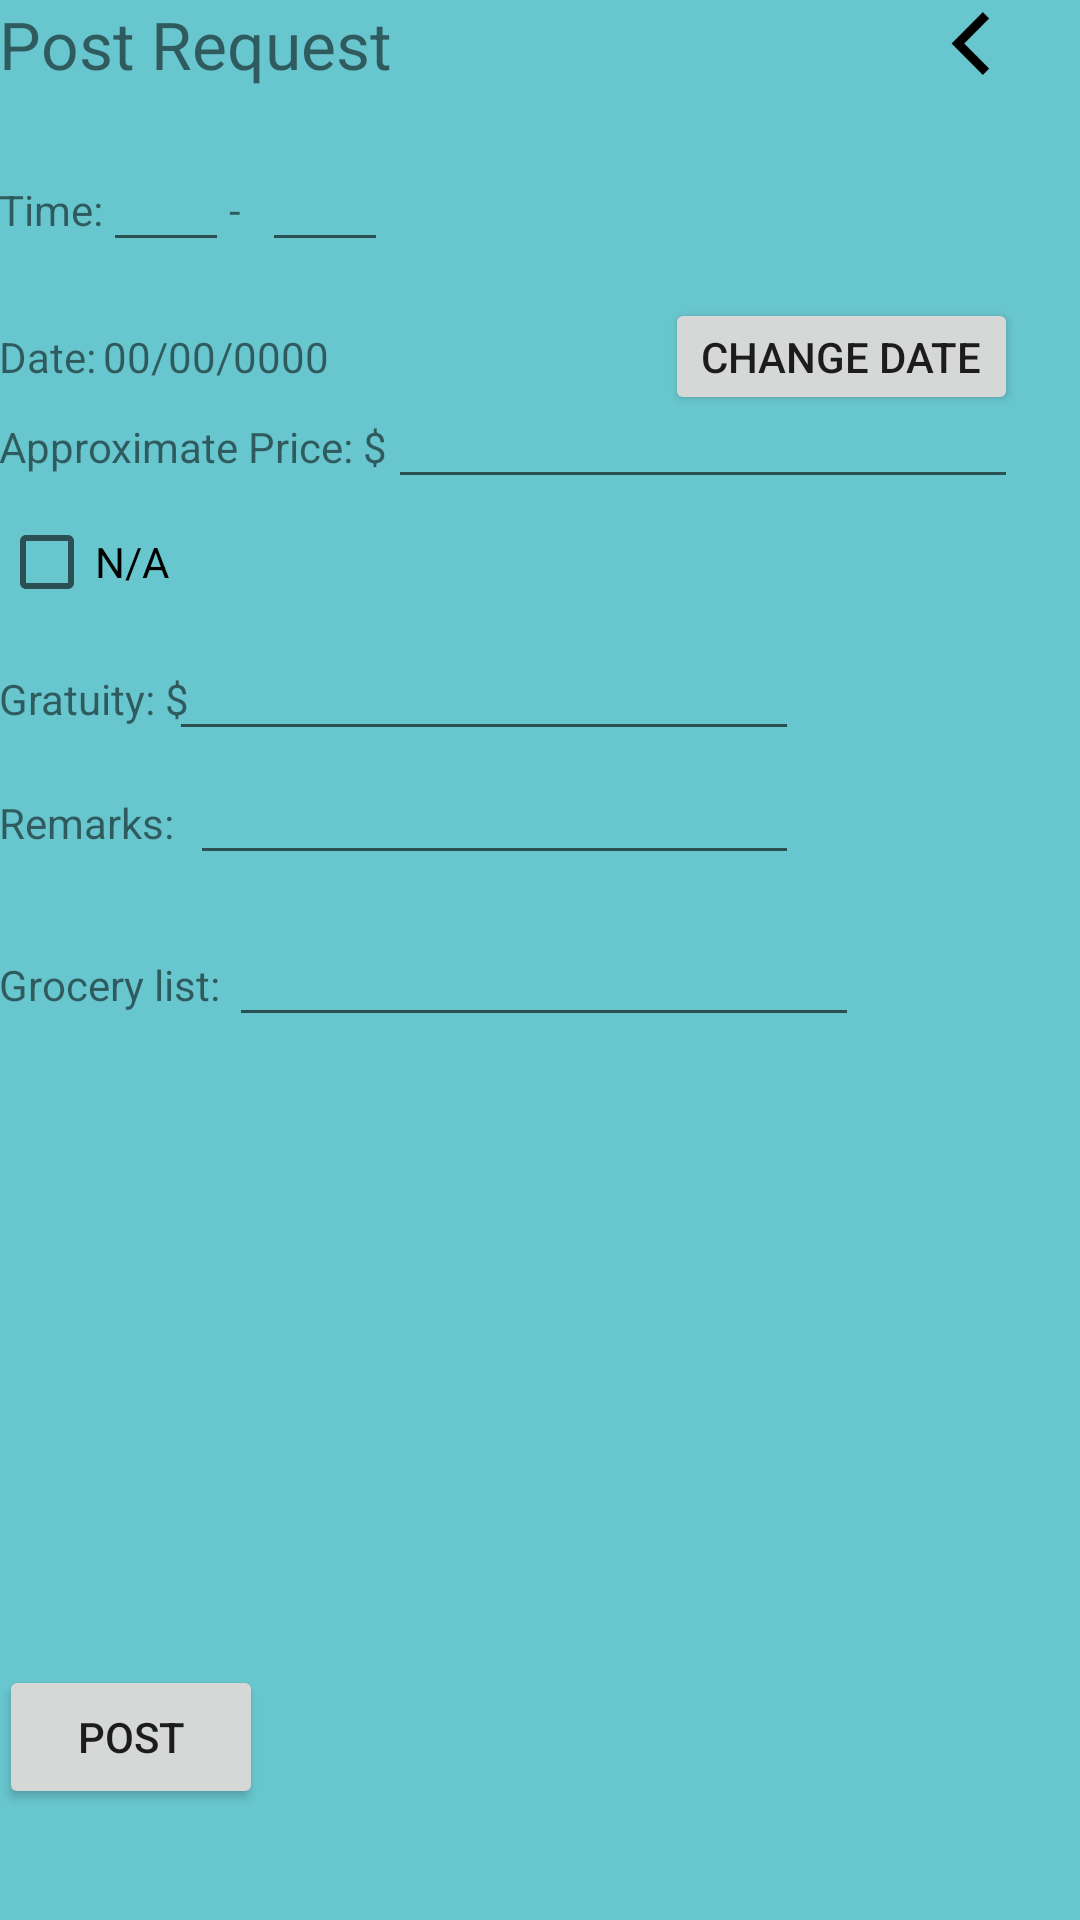

Locate icon controls on the screen. Image size 1080px x 1920px, boxes as region(x1, y1, x2, y2).
back: region(951, 12, 989, 75)
